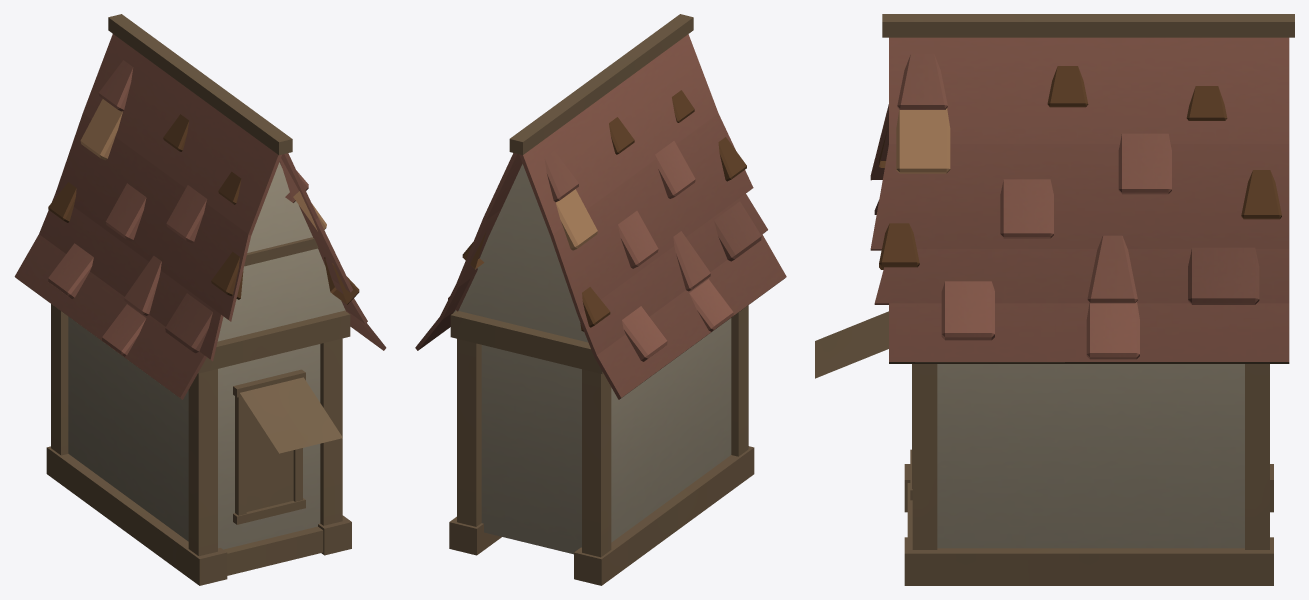
Rendered from ZLP_Build_B_19.FBX.
The picture shows the model from 3 angles, left to right: view 1: azimuth 30°, elevation 25°; view 2: azimuth 150°, elevation 25°; view 3: azimuth 270°, elevation 25°; orthographic projection. The views are drawn at different scales.
Parts seen in each view (by area): view 1: ZLP_Build_B_19; view 2: ZLP_Build_B_19; view 3: ZLP_Build_B_19.
Boxes of the visible parts, x1,y1,x2,y2 form: ZLP_Build_B_19: [14, 14, 386, 585]; ZLP_Build_B_19: [415, 14, 786, 585]; ZLP_Build_B_19: [815, 14, 1294, 585].
Bounding box in the file's own units: 147 × 289 × 240.
